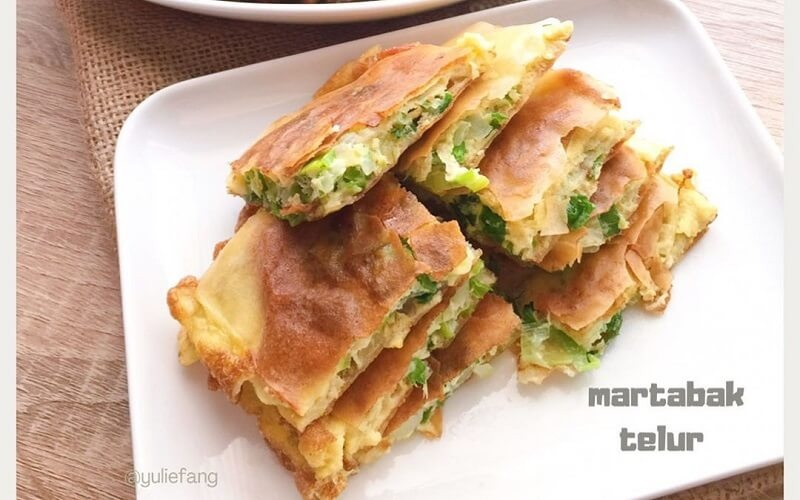martabak: (163, 16, 718, 500)
